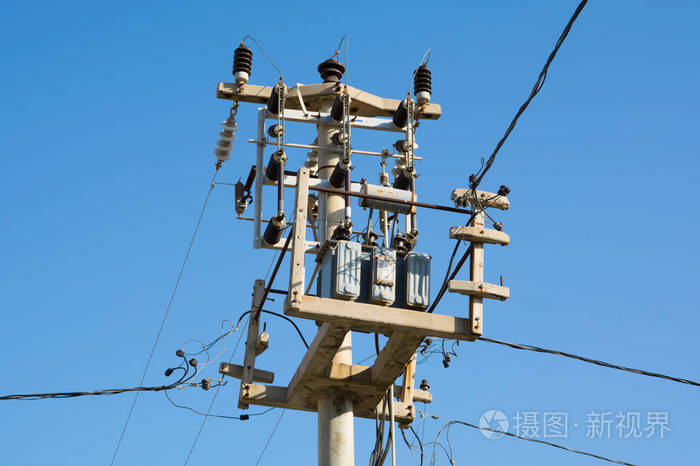insulator: (215, 121, 239, 164), (304, 139, 320, 167)
